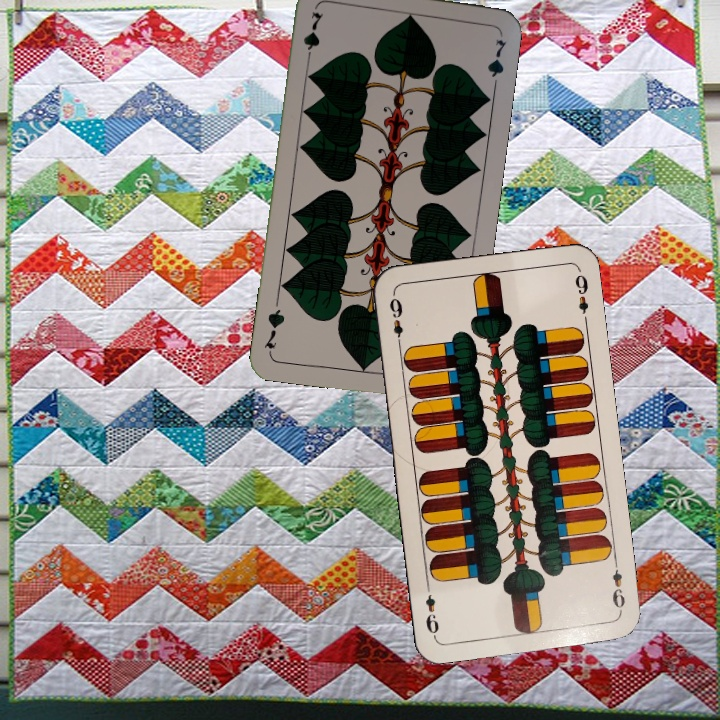E9: (608, 556, 628, 615), (385, 294, 406, 350)
G7: (299, 7, 326, 67)
